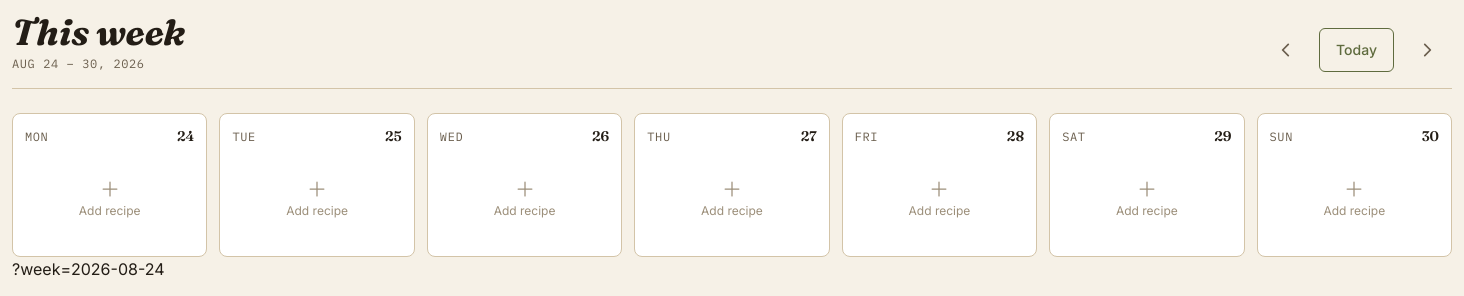
Test: MealPlanPage › navigates to the previous/next week and updates the URL
Expected: the text "Aug 24 – 30, 2026" is shown, [12,56,145,71]
Click the button named "Previous week". click: (1286, 50)
box: [1261,28,1311,72]
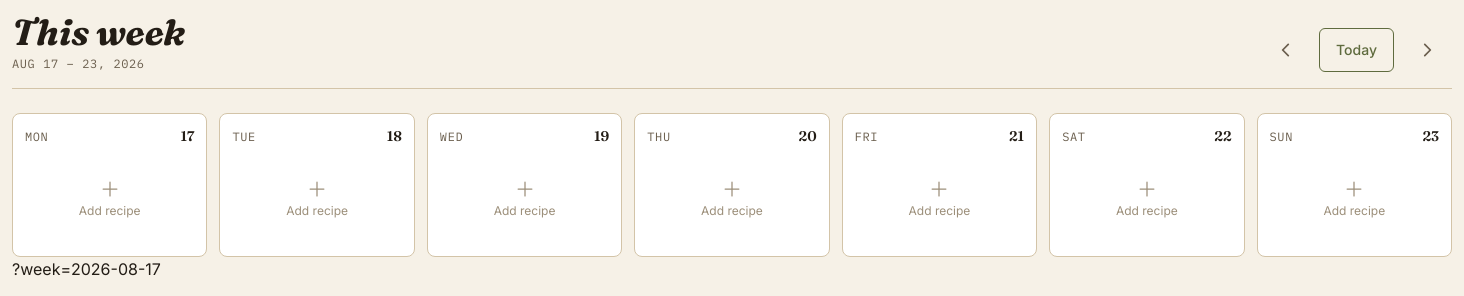
Now the text "Aug 17 – 23, 2026" is shown, box [12,56,145,71]
Now the text with test id "search-probe" shows "week=2026-08-17", box [12,259,161,279]
Click the button named "Next week". click: (1427, 50)
box: [1402,28,1452,72]
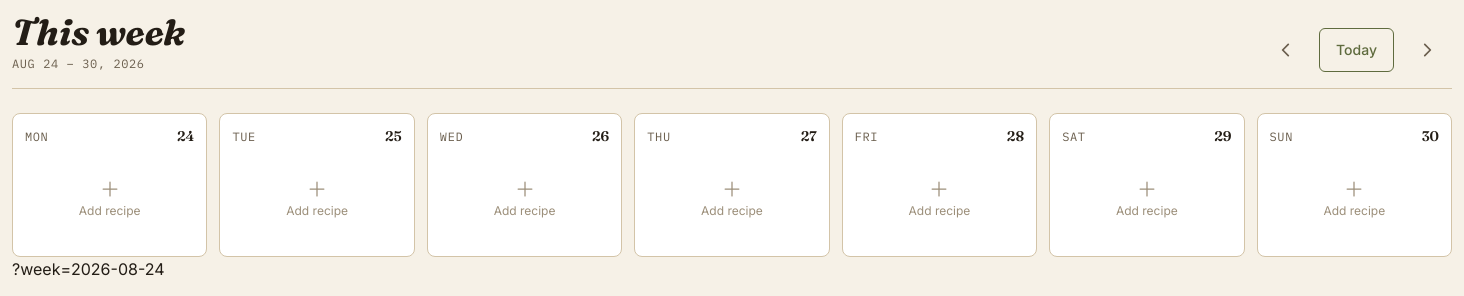
Now the text "Aug 24 – 30, 2026" is shown, box [12,56,145,71]
Now the text with test id "search-probe" shows "week=2026-08-24", box [12,259,165,279]
